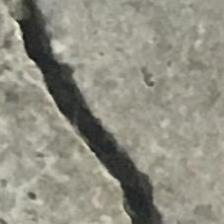Crack: (2, 0, 173, 222)
